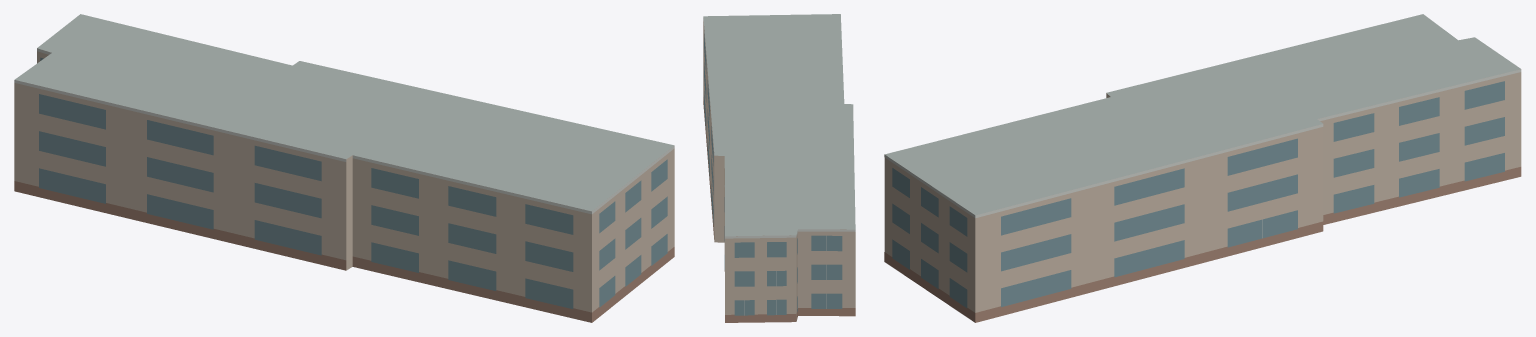
Rendered from survey-upis-32634233.glb.
3 views of the same model, side by side, from view 1: azimuth 30°, elevation 25°; view 2: azimuth 150°, elevation 25°; view 3: azimuth 270°, elevation 25° (orthographic). The views are drawn at different scales.
Visible parts, largest first — view 1: survey-upis-32634233.tmp; view 2: survey-upis-32634233.tmp; view 3: survey-upis-32634233.tmp.
Part boxes in pixels (x1,y1,x2,y2): survey-upis-32634233.tmp: (14,14,674,322); survey-upis-32634233.tmp: (703,14,855,322); survey-upis-32634233.tmp: (884,14,1521,322).
Bounding box in the file's own units: 36.77 × 9.15 × 49.13.
